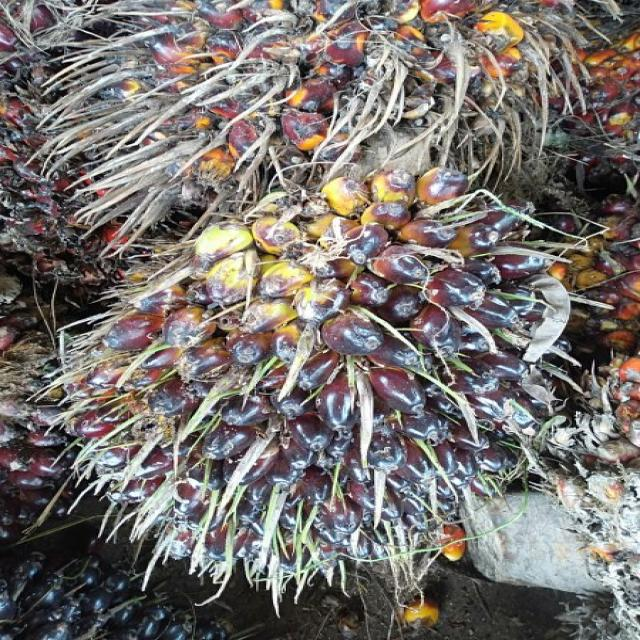fraksi 00: (90, 196, 567, 548)
